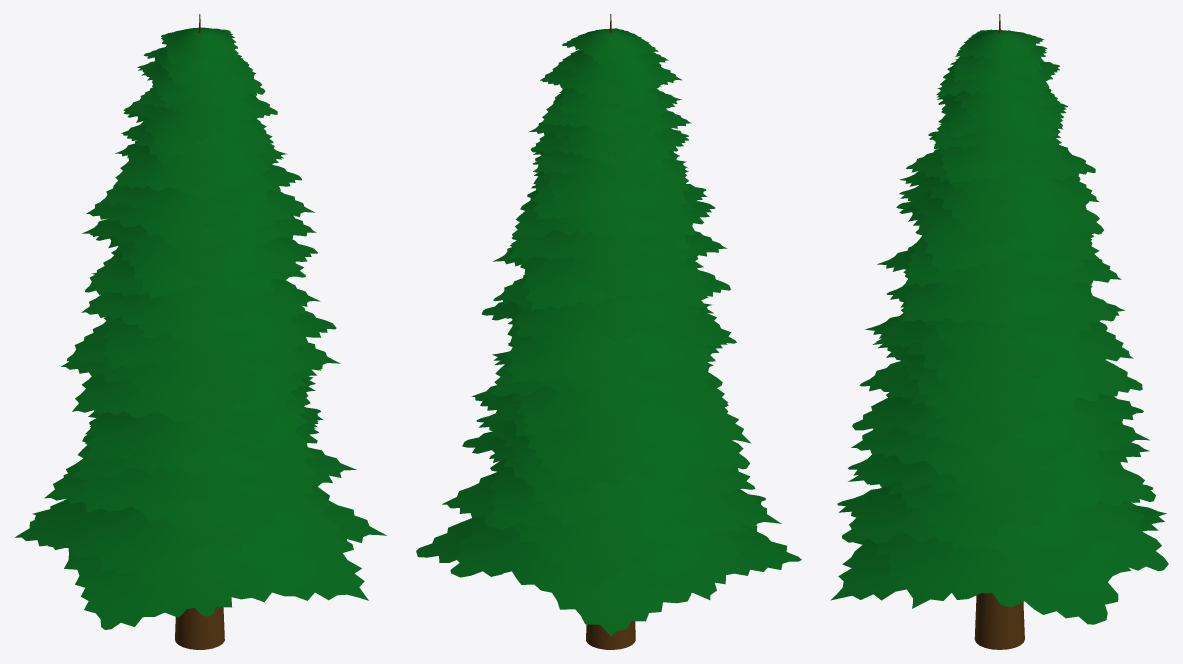
The model's file is Sapin_1.fbx.
3 renders of one model, left to right at view 1: azimuth 30°, elevation 25°; view 2: azimuth 150°, elevation 25°; view 3: azimuth 270°, elevation 25°, orthographic.
Parts seen in each view (by area): view 1: Sapin_01; view 2: Sapin_01; view 3: Sapin_01.
Part boxes in pixels (box(x1,y1,x2,y2)): Sapin_01: box(14, 14, 386, 649); Sapin_01: box(416, 14, 801, 649); Sapin_01: box(830, 14, 1168, 649).
Size of the model in its own units: 13.39 by 27.46 by 13.49.
